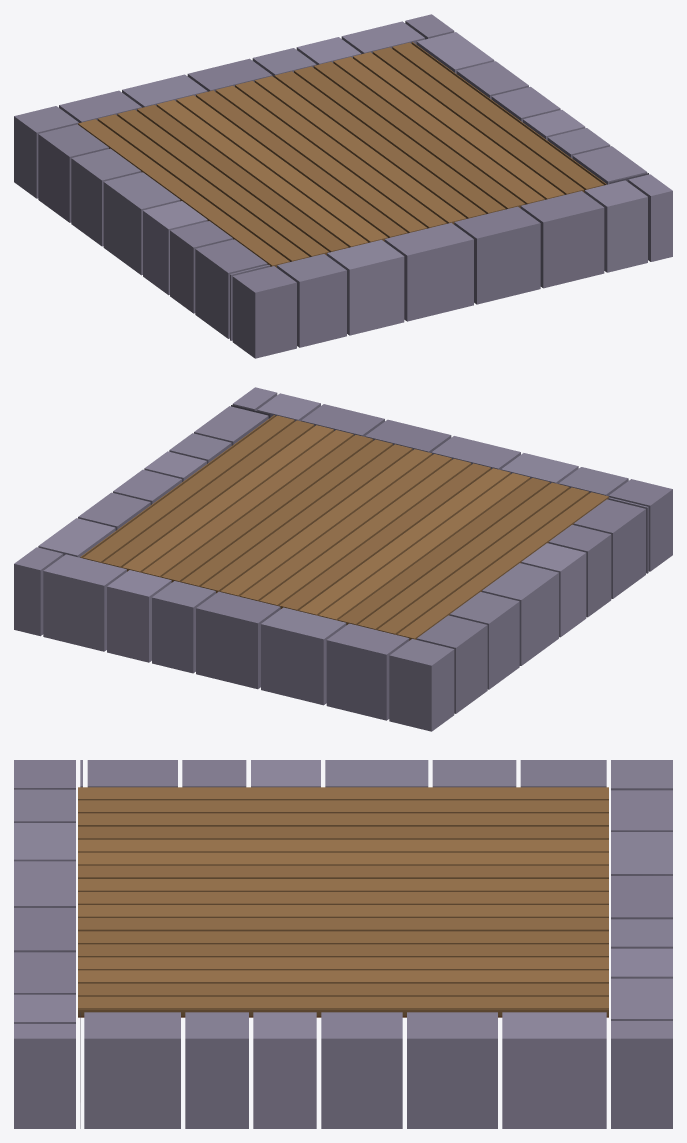
The model's file is g_pad.glb.
3 views of the same model, one above another, from view 1: azimuth 30°, elevation 25°; view 2: azimuth 150°, elevation 25°; view 3: azimuth 270°, elevation 25° (orthographic). The views are drawn at different scales.
Parts seen in each view (by area): view 1: g_pad; view 2: g_pad; view 3: g_pad.
Boxes of the visible parts, x1,y1,x2,y2 form: g_pad: [14, 14, 672, 358]; g_pad: [14, 387, 672, 731]; g_pad: [14, 760, 672, 1128].
Size of the model in its own units: 5.96 by 0.9 by 5.96.
